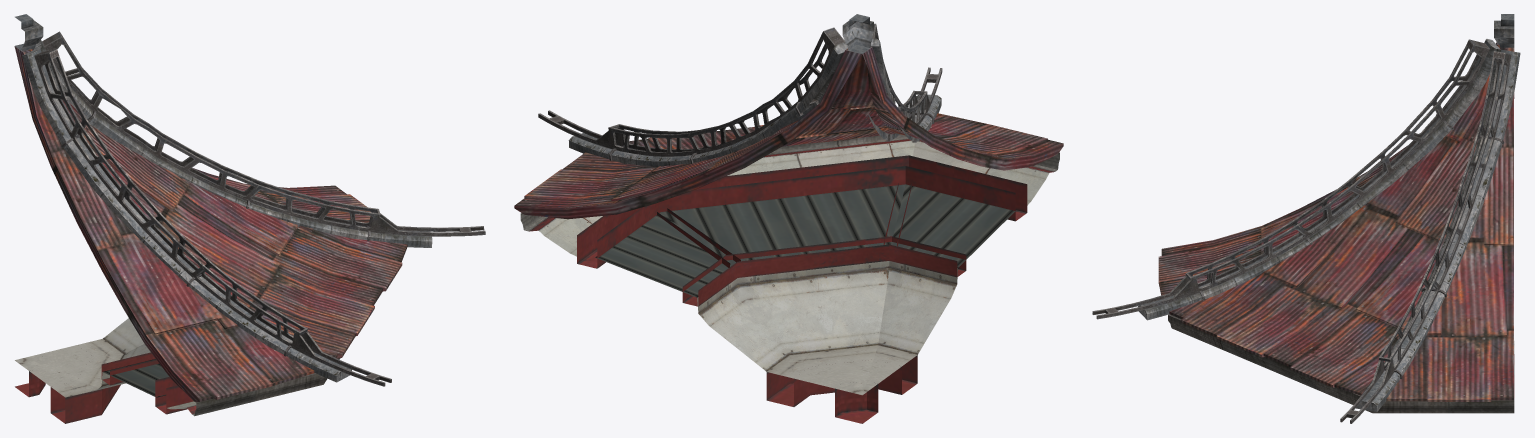
The model's file is Pagoda_Tile_Roof_Corner_Octo_5000x2500_A.FBX.
The picture shows the model from 3 angles, left to right: view 1: azimuth 30°, elevation 25°; view 2: azimuth 150°, elevation 25°; view 3: azimuth 270°, elevation 25°; orthographic projection. The views are drawn at different scales.
Visible parts, largest first — view 1: Geometry_Pagoda_Tile_Roof_Corner_Octo_5000x2500_A_LOD00; view 2: Geometry_Pagoda_Tile_Roof_Corner_Octo_5000x2500_A_LOD00; view 3: Geometry_Pagoda_Tile_Roof_Corner_Octo_5000x2500_A_LOD00.
Boxes of the visible parts, <box> form: Geometry_Pagoda_Tile_Roof_Corner_Octo_5000x2500_A_LOD00: <box>14,14,485,423</box>; Geometry_Pagoda_Tile_Roof_Corner_Octo_5000x2500_A_LOD00: <box>514,14,1063,423</box>; Geometry_Pagoda_Tile_Roof_Corner_Octo_5000x2500_A_LOD00: <box>1092,14,1520,423</box>.
Size of what is drawn, in the model's own units: 3078 by 2803 by 3092.
3 materials, 3 textured.
